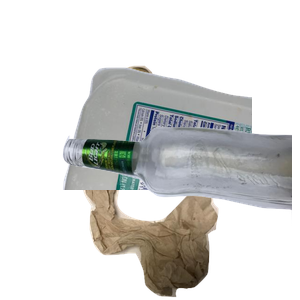glass: (60, 124, 300, 300)
metal: (105, 63, 300, 192)
plastic: (60, 65, 300, 245)
trash: (73, 147, 300, 300)
